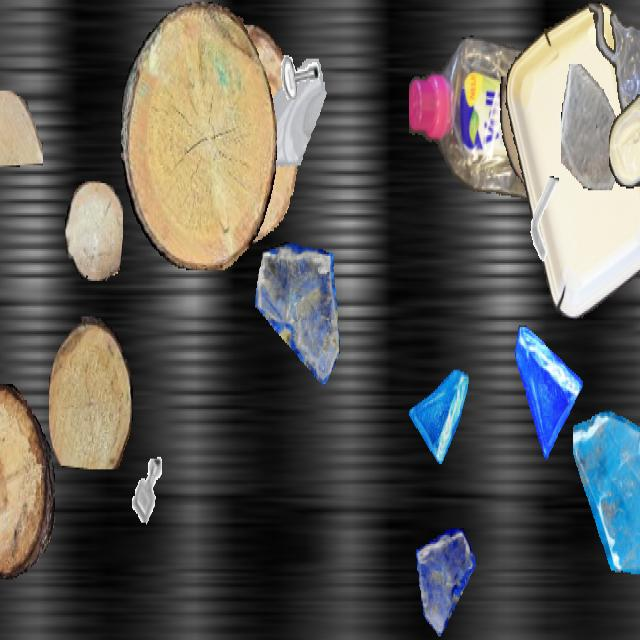glass: (255, 242, 339, 391), (573, 410, 640, 578), (255, 58, 331, 194), (507, 326, 583, 460), (561, 64, 631, 188), (415, 528, 477, 638), (408, 357, 468, 464)
metal: (270, 2, 324, 98), (122, 444, 174, 537), (520, 176, 570, 265)
plastic: (503, 2, 640, 318), (409, 32, 585, 224), (589, 2, 640, 112), (609, 89, 640, 188)
wood: (121, 2, 277, 268), (181, 25, 299, 245), (49, 316, 133, 469), (499, 76, 601, 198), (0, 384, 55, 580), (65, 181, 123, 281), (0, 91, 42, 165)
